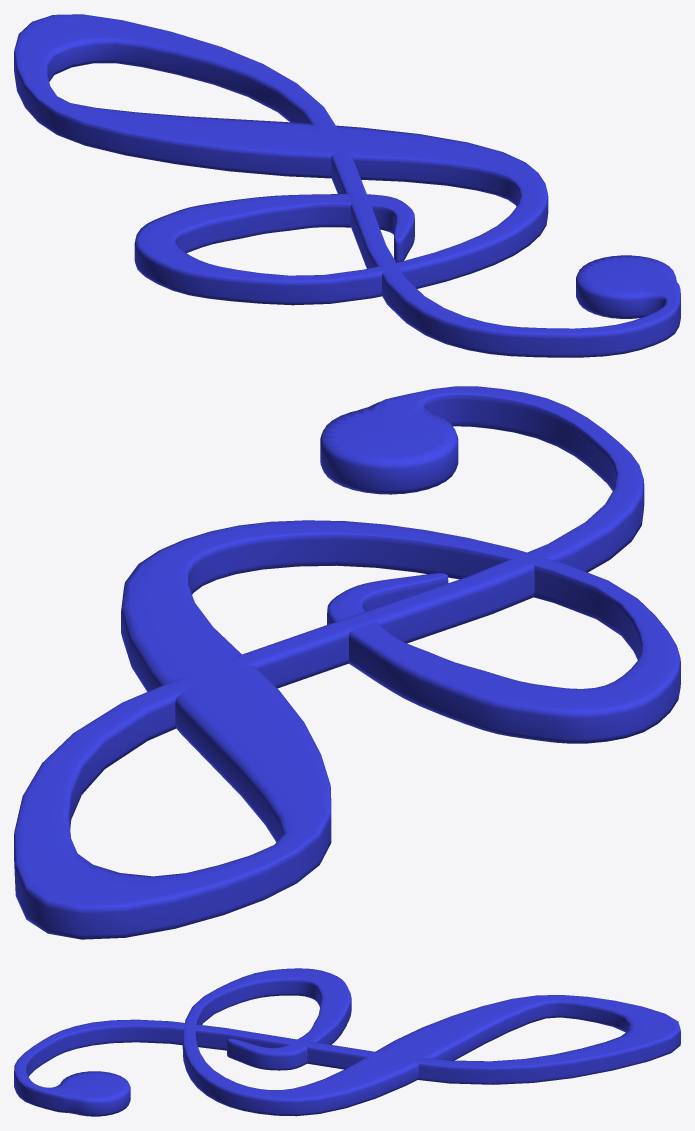
Rendered from treble_clef.fbx.
3 renders of one model, top to bottom at view 1: azimuth 30°, elevation 25°; view 2: azimuth 150°, elevation 25°; view 3: azimuth 270°, elevation 25°, orthographic. The views are drawn at different scales.
Parts seen in each view (by area): view 1: treble_clef; view 2: treble_clef; view 3: treble_clef.
Boxes of the visible parts, x1,y1,x2,y2 form: treble_clef: (14,14,680,357); treble_clef: (14,386,680,939); treble_clef: (14,968,680,1116).
Bounding box in the file's own units: 327 × 19.98 × 693.
